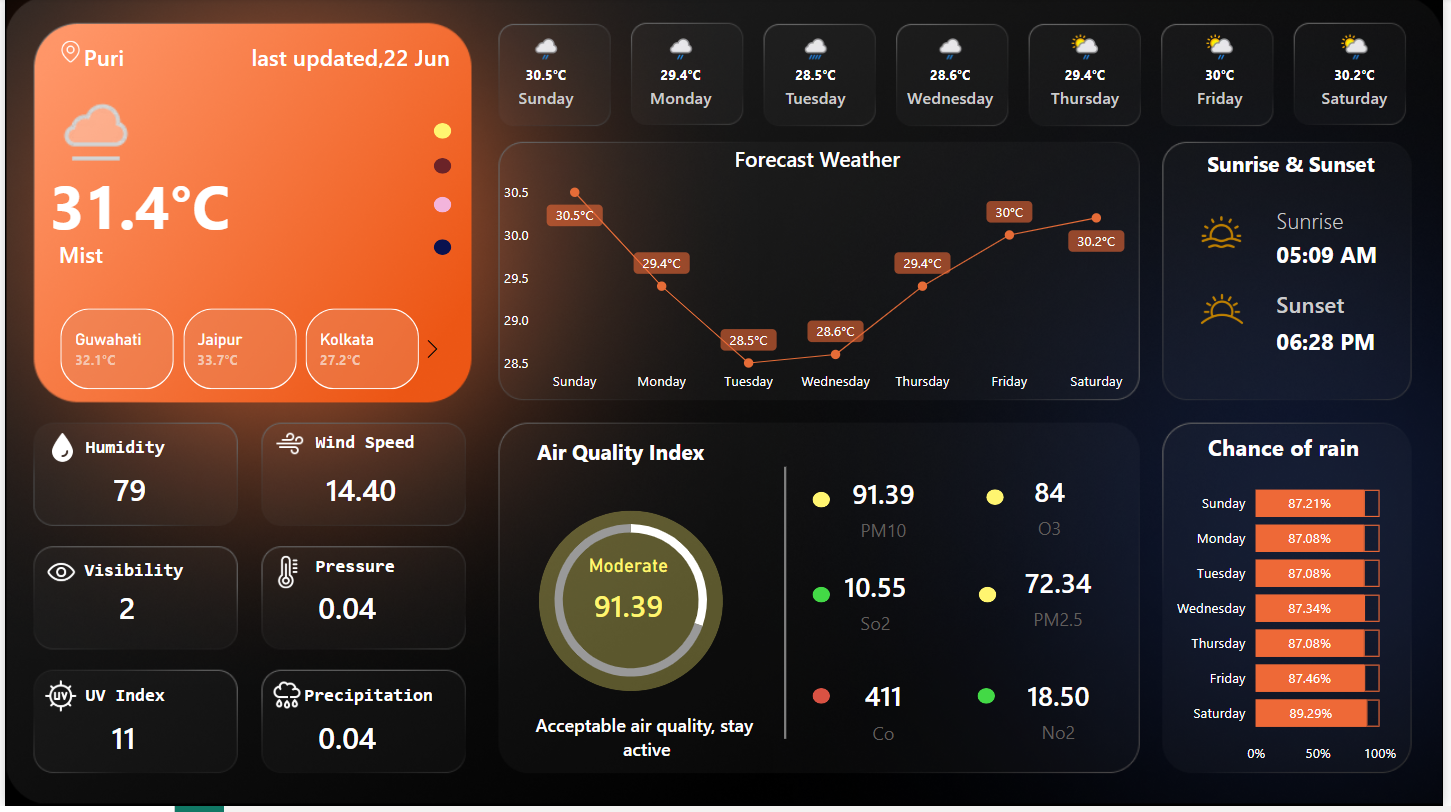

The page's visual inventory and layout, read from the dashboard file:
{"tool":"powerbi","page":{"name":"weather dashboard","canvas":[1280,720],"ordinal":0},"visuals":[{"type":"shape","box":[1132.1,194.9,97.4,65.9],"z":0,"group":"g1"},{"type":"advancedSlicerVisual","fields":{"Values":["Locations.location.name"]},"box":[24.9,271.2,371.9,82.3],"z":0,"group":"g2"},{"type":"shape","box":[475.3,456.5,164.1,161],"z":0,"group":"g5"},{"type":"image","box":[31.6,33,54.9,28.8],"z":1000,"group":"g5"},{"type":"shape","box":[39.9,139.6,193.8,87.5],"z":1000,"group":"g2"},{"type":"shape","box":[1132.1,271.8,97.4,65.9],"z":1000,"group":"g1"},{"type":"lineChart","title":"Forecast Weather","fields":{"Y":["Sum(forcast_day.forecast.forecastday.day.avgtemp_c)"],"Category":["forcast_day.Day_Name"]},"box":[439.1,130.4,569.5,229.2],"z":2000,"group":"g5"},{"type":"shape","box":[1132.1,175.7,97.4,42.5],"z":2000,"group":"g1"},{"type":"shape","box":[48.2,205.3,307.4,43.9],"z":2000,"group":"g2"},{"type":"advancedSlicerVisual","fields":{"Values":["forcast_day.Day_Name"]},"box":[421.3,22,843.9,94.7],"z":3000,"group":"g5"},{"type":"shape","box":[70.2,29.7,96.1,43.9],"z":3000,"group":"g2"},{"type":"shape","box":[1132.1,238.8,97.4,65.9],"z":3000,"group":"g1"},{"type":"shape","box":[201.9,29.7,194.9,43.9],"z":4000,"group":"g2"},{"type":"textbox","box":[1047,130.4,197.6,41.2],"z":4000,"group":"g5"},{"type":"group","id":"g1","title":"Group 1","box":[1132.1,175.7,97.4,161.9],"z":5000,"group":"g5"},{"type":"cardVisual","fields":{"Data":["Min(current.current.condition.icon)"]},"box":[18,56.7,120.4,118.8],"z":6000,"group":"g2"},{"type":"image","box":[1053.9,238.8,59,75.5],"z":6000,"group":"g5"},{"type":"image","box":[1060.8,183.9,45.3,49.4],"z":7000,"group":"g5"},{"type":"image","box":[31.6,381.6,39.8,37],"z":7000,"group":"g3"},{"type":"group","id":"g2","title":"Group 2","box":[18,29.7,378.8,323.8],"z":8000,"group":"g5"},{"type":"image","box":[236,374.7,35.7,43.9],"z":8000,"group":"g3"},{"type":"group","id":"g3","title":"Group 3","box":[30.2,374.7,381.5,322.5],"z":9000,"group":"g5"},{"type":"image","box":[30.2,491.3,39.8,38.4],"z":9000,"group":"g3"},{"type":"hundredPercentStackedBarChart","title":"Chance of rain","fields":{"Y":["_Measures.Left_value_Rain","Sum(forcast_day.forecast.forecastday.day.daily_chance_of_rain)"],"Category":["forcast_day.Day_Name"]},"box":[1033.3,385.6,211.3,305],"z":10000,"group":"g5"},{"type":"image","box":[233.3,491.3,38.4,38.4],"z":10000,"group":"g3"},{"type":"textbox","box":[450.3,386.2,197,42.2],"z":11000,"group":"g5"},{"type":"image","box":[30.2,601.1,39.8,41.2],"z":11000,"group":"g3"},{"type":"card","fields":{"Values":["Sum(current.current.air_quality.pm10)"]},"box":[500.3,495.6,111,75],"z":12000,"group":"g5"},{"type":"image","box":[231.9,601.1,39.8,39.8],"z":12000,"group":"g3"},{"type":"textbox","box":[67.2,385.7,140,28.8],"z":13000,"group":"g3"},{"type":"card","fields":{"Values":["Sum(current.current.air_quality.o3)"]},"box":[875.5,414.3,111,75],"z":13000,"group":"g5"},{"type":"textbox","box":[271.7,381.6,140,28.8],"z":14000,"group":"g3"},{"type":"card","fields":{"Values":["Sum(current.current.air_quality.co)"]},"box":[727,595.7,111,76.6],"z":14000,"group":"g5"},{"type":"textbox","box":[65.9,495.5,140,28.8],"z":15000,"group":"g3"},{"type":"card","fields":{"Values":["Sum(current.current.air_quality.so2)"]},"box":[719.1,498.7,112.6,75],"z":15000,"group":"g5"},{"type":"textbox","box":[271.7,491.3,140,28.8],"z":16000,"group":"g3"},{"type":"card","fields":{"Values":["Sum(current.current.air_quality.no2)"]},"box":[883.3,595.7,111,75],"z":16000,"group":"g5"},{"type":"card","fields":{"Values":["Sum(current.current.air_quality.pm2_5)"]},"box":[881.7,495.6,112.6,75],"z":17000,"group":"g5"},{"type":"textbox","box":[67.2,606.6,140,28.8],"z":17000,"group":"g3"},{"type":"textbox","box":[262.1,606.6,140,28.8],"z":18000,"group":"g3"},{"type":"shape","box":[719.1,614.4,15.6,14.1],"z":18000,"group":"g5"},{"type":"card","fields":{"Values":["Sum(current.current.humidity)"]},"box":[56.3,400.8,111.1,75.5],"z":19000,"group":"g3"},{"type":"group","id":"g4","title":"Group 4","box":[719.1,415.9,118.8,75],"z":19000,"group":"g5"},{"type":"card","fields":{"Values":["Sum(current.current.air_quality.pm10)"]},"box":[726.9,415.9,111,75],"z":19000,"group":"g4"},{"type":"shape","box":[719.1,439.3,15.6,14.1],"z":19006,"group":"g4"},{"type":"card","fields":{"Values":["Sum(current.current.wind_kph)"]},"box":[262.1,400.8,111.1,75.5],"z":20000,"group":"g3"},{"type":"shape","box":[719.1,523.7,15.6,14.1],"z":20000,"group":"g5"},{"type":"shape","box":[873.9,437.8,15.6,14.1],"z":21000,"group":"g5"},{"type":"card","fields":{"Values":["Sum(current.current.vis_miles)"]},"box":[53.5,506.4,111.1,75.5],"z":21000,"group":"g3"},{"type":"card","fields":{"Values":["Sum(current.current.precip_mm)"]},"box":[249.8,506.4,111.1,75.5],"z":22000,"group":"g3"},{"type":"shape","box":[867.6,523.7,15.6,14.1],"z":22000,"group":"g5"},{"type":"shape","box":[866.1,614.4,15.6,14.1],"z":23000,"group":"g5"},{"type":"card","fields":{"Values":["Sum(current.current.uv)"]},"box":[50.8,621.7,111.1,75.5],"z":23000,"group":"g3"},{"type":"shape","box":[611.3,417.4,167.3,242.3],"z":24000,"group":"g5"},{"type":"card","fields":{"Values":["Sum(current.current.precip_mm)"]},"box":[249.8,621.7,111.1,75.5],"z":24000,"group":"g3"},{"type":"donutChart","fields":{"Y":["Sum(current.current.air_quality.pm10)","_Measures.Left_value_PM10"]},"box":[467.4,439.3,179.8,193.8],"z":25000,"group":"g5"},{"type":"card","fields":{"Values":["_Measures.AQI Suggestion TEMPLATE"]},"box":[450.3,617.5,243.9,79.7],"z":26000,"group":"g5"},{"type":"group","id":"g5","title":"Group 5","box":[18,22,1247.2,675.3],"z":26005},{"type":"shape","box":[381.5,111,15.6,14.1],"z":27000,"group":"g5"},{"type":"shape","box":[381.5,142.3,15.6,14.1],"z":28000,"group":"g5"},{"type":"shape","box":[381.5,176.7,15.6,14.1],"z":29000,"group":"g5"},{"type":"shape","box":[381.5,214.2,15.6,14.1],"z":30000,"group":"g5"}]}

Visuals, with their boxes in screenshot pixels (x1, y1, x2, y2), scaled from the page's 1280x720 canvas onto the 1451x812 screenshot:
shape: select_region(1283, 220, 1394, 294)
advancedSlicerVisual - Locations.location.name: select_region(28, 306, 450, 399)
shape: select_region(539, 515, 725, 696)
image: select_region(36, 37, 98, 70)
shape: select_region(45, 157, 265, 256)
shape: select_region(1283, 307, 1394, 381)
"Forecast Weather" lineChart: select_region(498, 147, 1143, 406)
shape: select_region(1283, 198, 1394, 246)
shape: select_region(55, 232, 403, 281)
advancedSlicerVisual - forcast_day.Day_Name: select_region(478, 25, 1434, 132)
shape: select_region(80, 33, 189, 83)
shape: select_region(1283, 269, 1394, 344)
shape: select_region(229, 33, 450, 83)
textbox: select_region(1187, 147, 1411, 194)
"Group 1" group: select_region(1283, 198, 1394, 381)
cardVisual - Min(current.current.condition.icon): select_region(20, 64, 157, 198)
image: select_region(1195, 269, 1262, 354)
image: select_region(1203, 207, 1254, 263)
image: select_region(36, 430, 81, 472)
"Group 2" group: select_region(20, 33, 450, 399)
image: select_region(268, 423, 308, 472)
"Group 3" group: select_region(34, 423, 467, 786)
image: select_region(34, 554, 79, 597)
"Chance of rain" hundredPercentStackedBarChart: select_region(1171, 435, 1411, 779)
image: select_region(264, 554, 308, 597)
textbox: select_region(510, 436, 734, 483)
image: select_region(34, 678, 79, 724)
card - Sum(current.current.air_quality.pm10): select_region(567, 559, 693, 644)
image: select_region(263, 678, 308, 723)
textbox: select_region(76, 435, 235, 467)
card - Sum(current.current.air_quality.o3): select_region(992, 467, 1118, 552)
textbox: select_region(308, 430, 467, 463)
card - Sum(current.current.air_quality.co): select_region(824, 672, 950, 758)
textbox: select_region(75, 559, 233, 591)
card - Sum(current.current.air_quality.so2): select_region(815, 562, 943, 647)
textbox: select_region(308, 554, 467, 587)
card - Sum(current.current.air_quality.no2): select_region(1001, 672, 1127, 756)
card - Sum(current.current.air_quality.pm2_5): select_region(999, 559, 1127, 644)
textbox: select_region(76, 684, 235, 717)
textbox: select_region(297, 684, 456, 717)
shape: select_region(815, 693, 833, 709)
card - Sum(current.current.humidity): select_region(64, 452, 190, 537)
"Group 4" group: select_region(815, 469, 950, 554)
card - Sum(current.current.air_quality.pm10): select_region(824, 469, 950, 554)
shape: select_region(815, 495, 833, 511)
card - Sum(current.current.wind_kph): select_region(297, 452, 423, 537)
shape: select_region(815, 591, 833, 607)
shape: select_region(991, 494, 1008, 510)
card - Sum(current.current.vis_miles): select_region(61, 571, 187, 656)
card - Sum(current.current.precip_mm): select_region(283, 571, 409, 656)
shape: select_region(984, 591, 1001, 607)
shape: select_region(982, 693, 999, 709)
card - Sum(current.current.uv): select_region(58, 701, 184, 786)
shape: select_region(693, 471, 883, 744)
card - Sum(current.current.precip_mm): select_region(283, 701, 409, 786)
donutChart - Sum(current.current.air_quality.pm10) x _Measures.Left_value_PM10: select_region(530, 495, 734, 714)
card - _Measures.AQI Suggestion TEMPLATE: select_region(510, 696, 787, 786)
"Group 5" group: select_region(20, 25, 1434, 786)
shape: select_region(432, 125, 450, 141)
shape: select_region(432, 160, 450, 176)
shape: select_region(432, 199, 450, 215)
shape: select_region(432, 242, 450, 257)
